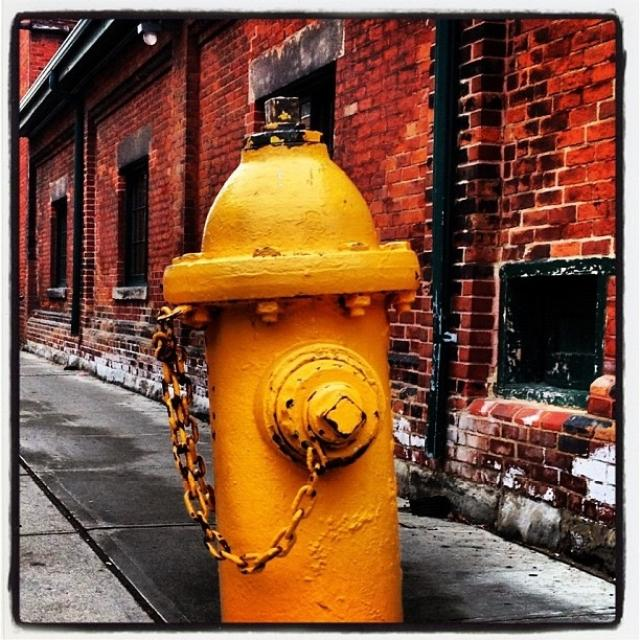fire_hydrant: (116, 95, 485, 640)
